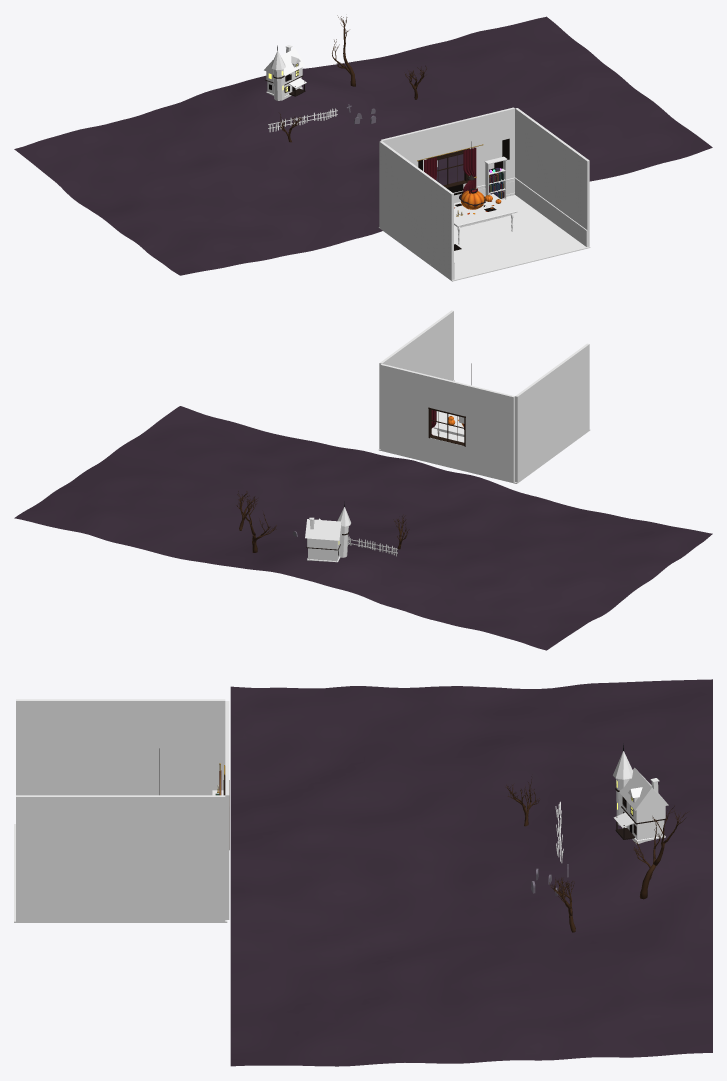
3 renders of one model, top to bottom at view 1: azimuth 30°, elevation 25°; view 2: azimuth 150°, elevation 25°; view 3: azimuth 270°, elevation 25°, orthographic. The views are drawn at different scales.
Visible parts, largest first — view 1: OutsideGround, WallSide, Floor, WallSide.001, WallBack.001, WainscotSide.001, WallBack, WallBack.002, TableTop, Curtain.001; view 2: OutsideGround, WallSide, WallBack, WallBack.001, WallSide.001, WallBack.002, WallBack.003, HouseRoof; view 3: OutsideGround, WallSide.001, WallSide, HouseRoof, DeadTree, WallBack.001, Floor.
Boxes of the visible parts, bbox=[...] form: OutsideGround: bbox=[14, 16, 712, 275]; WallSide: bbox=[379, 141, 453, 280]; Floor: bbox=[378, 195, 590, 281]; WallSide.001: bbox=[515, 108, 589, 246]; WallBack.001: bbox=[465, 107, 514, 186]; WainscotSide.001: bbox=[515, 179, 587, 246]; WallBack: bbox=[380, 128, 430, 171]; WallBack.002: bbox=[429, 119, 466, 157]; TableTop: bbox=[454, 194, 517, 226]; Curtain.001: bbox=[463, 147, 476, 192]; OutsideGround: bbox=[14, 406, 712, 650]; WallSide: bbox=[515, 343, 589, 482]; WallBack: bbox=[465, 384, 514, 482]; WallBack.001: bbox=[380, 364, 429, 462]; WallSide.001: bbox=[379, 310, 453, 449]; WallBack.002: bbox=[428, 375, 466, 416]; WallBack.003: bbox=[428, 437, 465, 471]; HouseRoof: bbox=[305, 519, 341, 540]; OutsideGround: bbox=[230, 679, 712, 1066]; WallSide.001: bbox=[16, 795, 225, 921]; WallSide: bbox=[16, 699, 225, 795]; HouseRoof: bbox=[619, 767, 668, 810]; DeadTree: bbox=[633, 805, 689, 899]; WallBack.001: bbox=[225, 761, 229, 919]; Floor: bbox=[14, 824, 227, 922].
Size of the model in its own units: 64 by 10.89 by 50.15.
